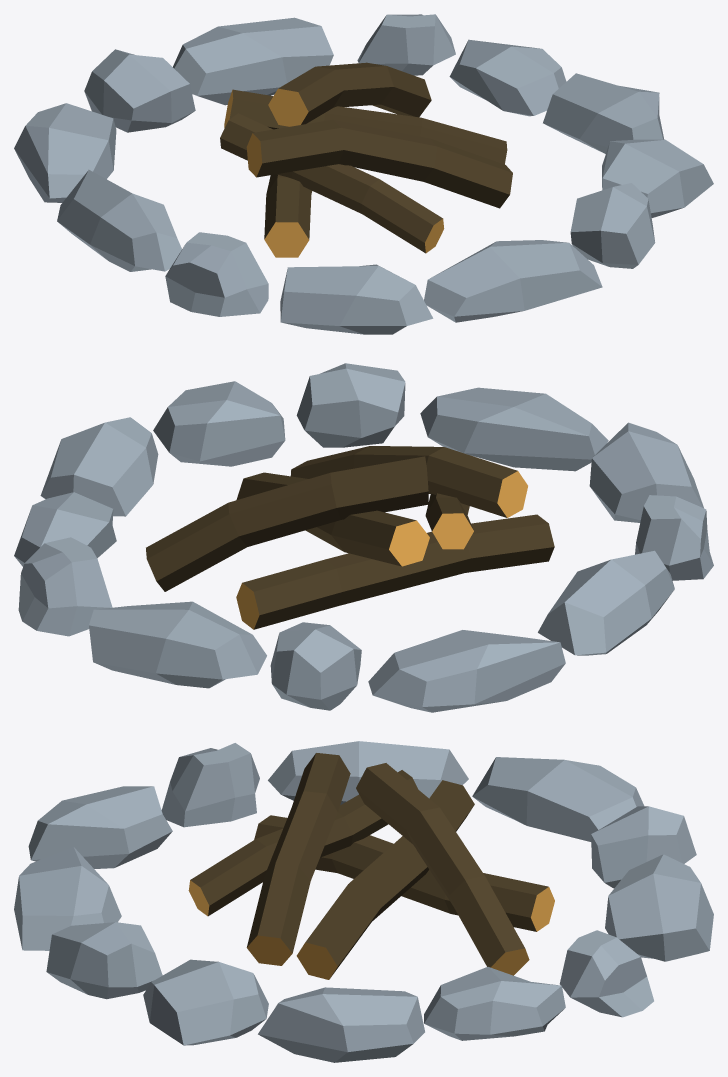
File: Campfire.fbx
The picture shows the model from 3 angles, top to bottom: view 1: azimuth 30°, elevation 25°; view 2: azimuth 150°, elevation 25°; view 3: azimuth 270°, elevation 25°; orthographic projection. The views are drawn at different scales.
Parts seen in each view (by area): view 1: Campfire; view 2: Campfire; view 3: Campfire.
Part boxes in pixels (x1,y1,x2,y2): Campfire: (14, 14, 713, 334); Campfire: (14, 363, 713, 712); Campfire: (14, 741, 713, 1062).
Bounding box in the file's own units: 0.8263 × 0.1637 × 0.8577.
